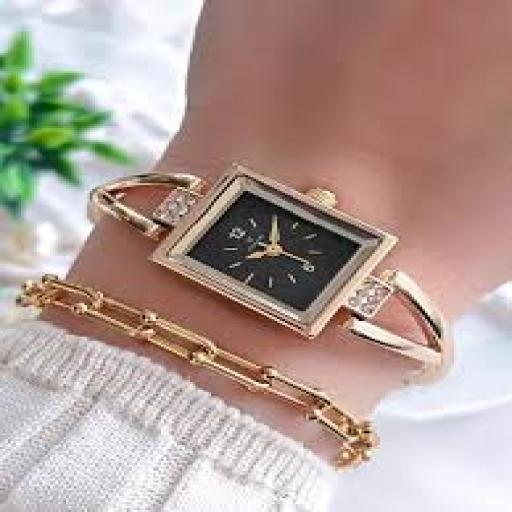KolSaati: (81, 142, 475, 380)
